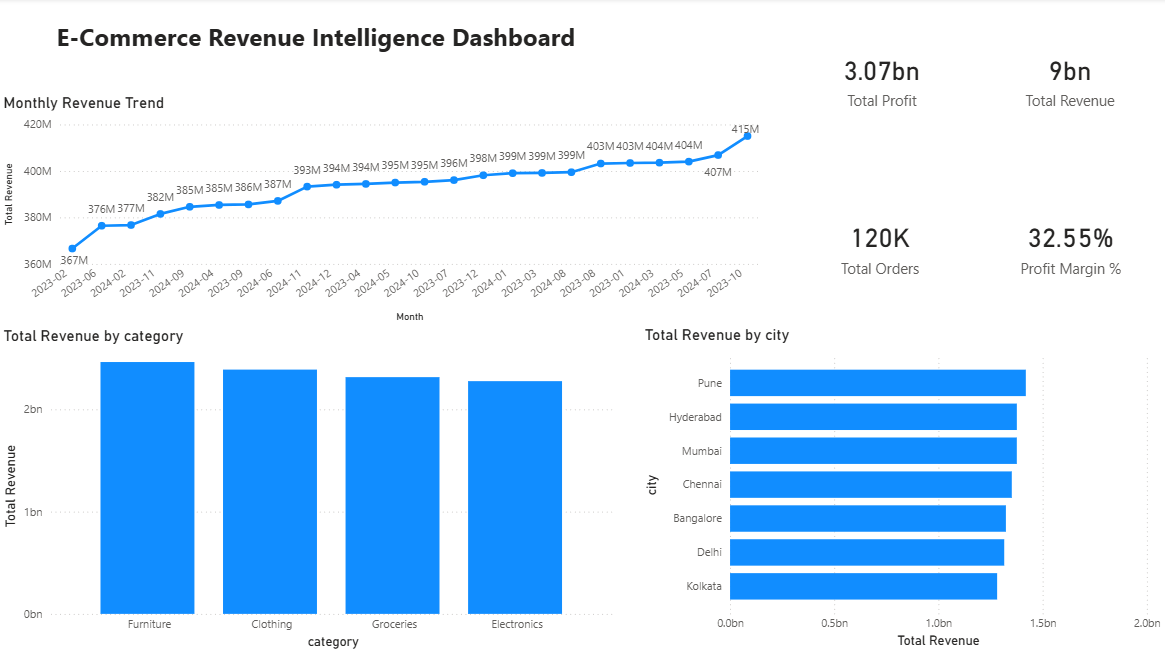

What the dashboard file says about the page in this screenshot:
{"tool":"powerbi","page":{"name":"Page 1","canvas":[1280,720],"ordinal":0},"visuals":[{"type":"card","fields":{"Values":["orders.Total Revenue"]},"box":[1071.7,0,208.6,177],"z":0},{"type":"card","fields":{"Values":["orders.Total Profit"]},"box":[865.9,0,207.2,177],"z":1000},{"type":"card","fields":{"Values":["orders.Total Orders"]},"box":[863.1,183.9,208.6,177],"z":2000},{"type":"card","fields":{"Values":["orders.Profit Margin %"]},"box":[1073.1,183.9,207.2,177],"z":3000},{"type":"lineChart","title":"Monthly Revenue Trend","fields":{"Category":["orders.Month"],"Y":["orders.Total Revenue"]},"box":[0,104.3,839.8,256.6],"z":4000},{"type":"clusteredColumnChart","fields":{"Category":["products.category"],"Y":["orders.Total Revenue"]},"box":[0,360.5,681.6,359.2],"z":5000},{"type":"clusteredBarChart","fields":{"Category":["customers.city"],"Y":["orders.Total Revenue"]},"box":[703.9,359.5,576.3,359.5],"z":6000},{"type":"textbox","box":[13.2,19.7,668.4,48.7],"z":7000}]}

Visuals, with their boxes in screenshot pixels (x1, y1, x2, y2), scaled from the page's 1280x720 canvas onto the 1165x652 screenshot:
card - orders.Total Revenue: BBox(975, 0, 1164, 160)
card - orders.Total Profit: BBox(788, 0, 977, 160)
card - orders.Total Orders: BBox(786, 167, 975, 327)
card - orders.Profit Margin %: BBox(977, 167, 1164, 327)
"Monthly Revenue Trend" lineChart: BBox(0, 94, 764, 327)
clusteredColumnChart - products.category x orders.Total Revenue: BBox(0, 326, 620, 651)
clusteredBarChart - customers.city x orders.Total Revenue: BBox(641, 326, 1164, 651)
textbox: BBox(12, 18, 620, 62)
